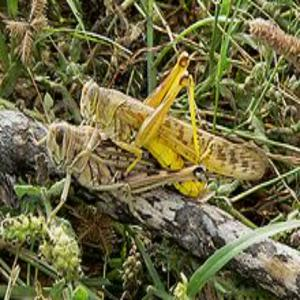locust: (81, 67, 254, 159), (46, 121, 186, 203)
